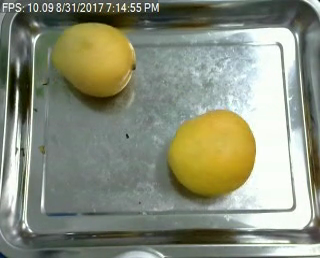Mango: (165, 108, 259, 196), (53, 22, 135, 100)
